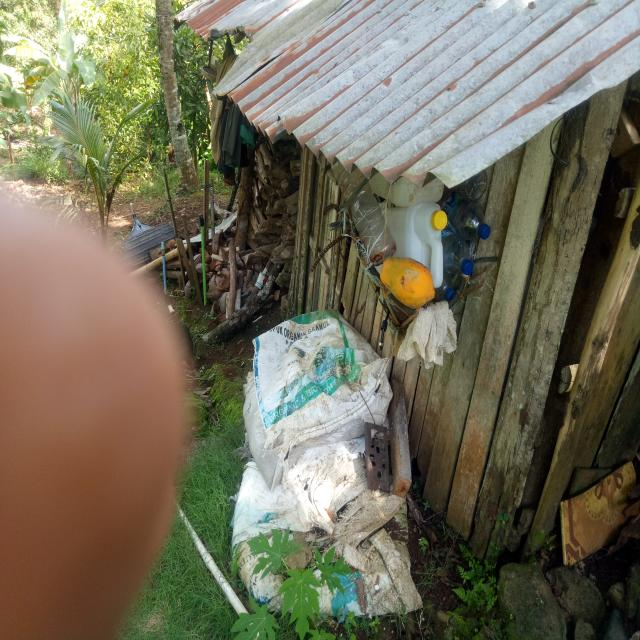Pepaya rippen: (369, 253, 438, 320)
